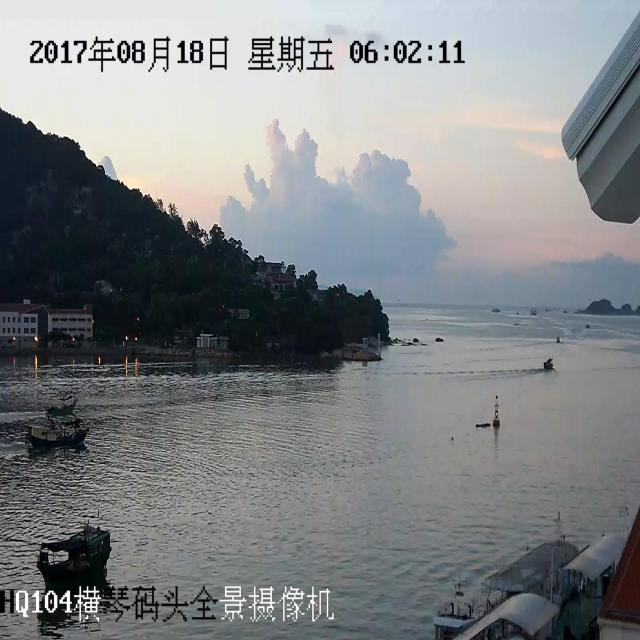buoy: (487, 397, 511, 439)
fishing boat: (28, 503, 110, 594), (28, 371, 100, 464), (538, 350, 566, 372)
